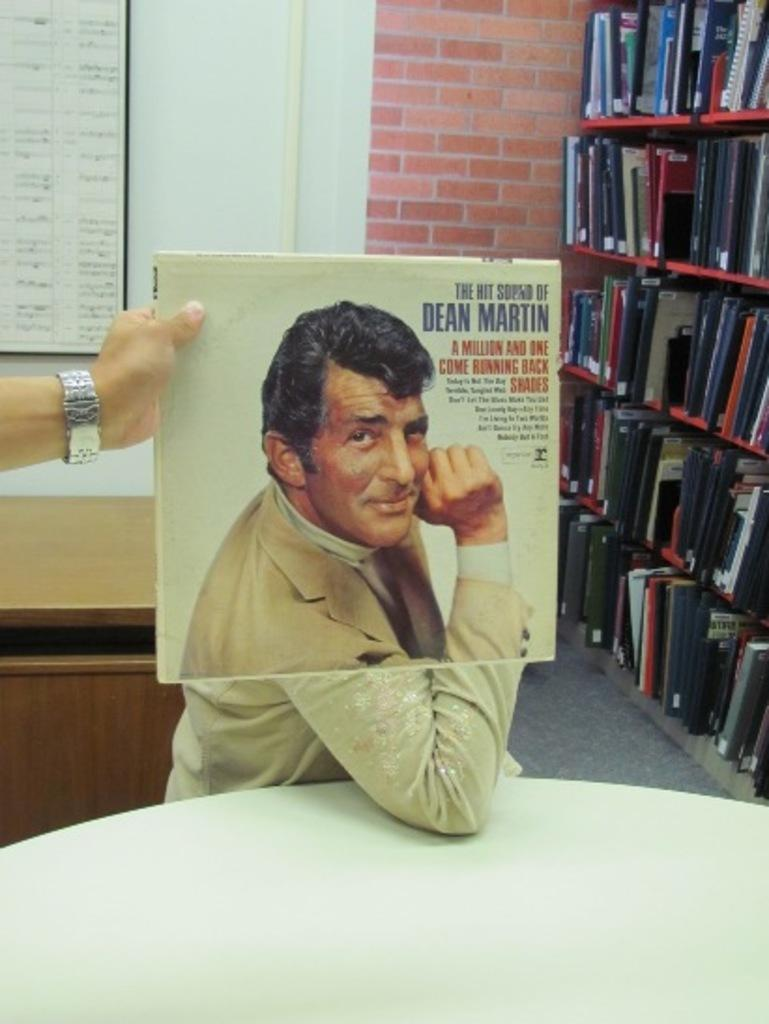Book: (144, 255, 563, 689), (556, 489, 767, 797), (573, 384, 767, 618), (569, 270, 767, 447), (559, 135, 767, 277), (573, 0, 767, 124)
